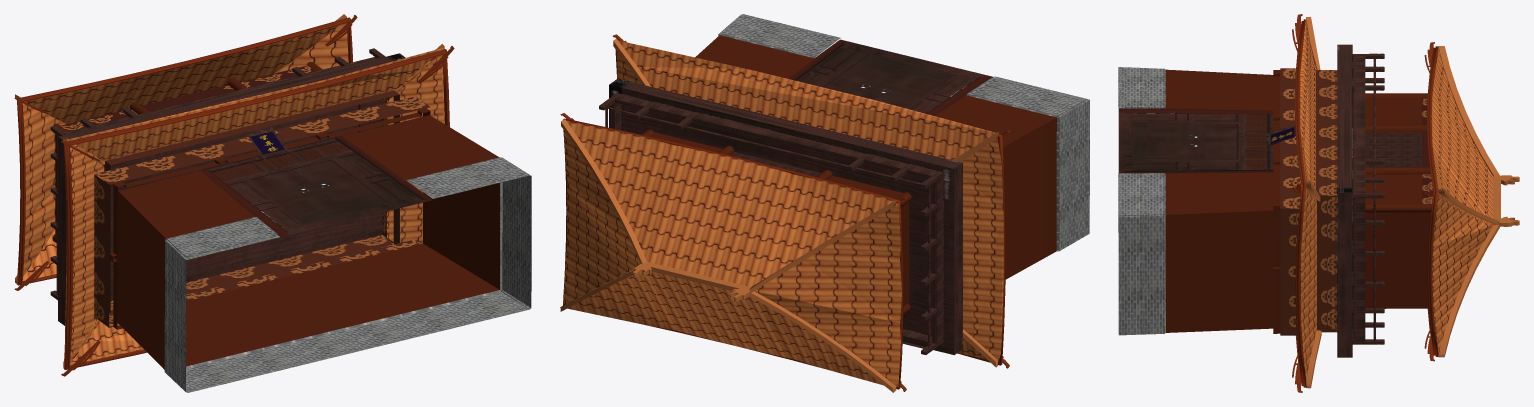
3 views of the same model, side by side, from view 1: azimuth 30°, elevation 25°; view 2: azimuth 150°, elevation 25°; view 3: azimuth 270°, elevation 25° (orthographic). The views are drawn at different scales.
Parts seen in each view (by area): view 1: wang; view 2: wang; view 3: wang.
Boxes of the visible parts, bbox=[...] form: wang: bbox=[14, 14, 531, 392]; wang: bbox=[560, 14, 1089, 392]; wang: bbox=[1118, 14, 1519, 392].
Size of the model in its own units: 444 by 254 by 441.
15 materials, 12 textured.
